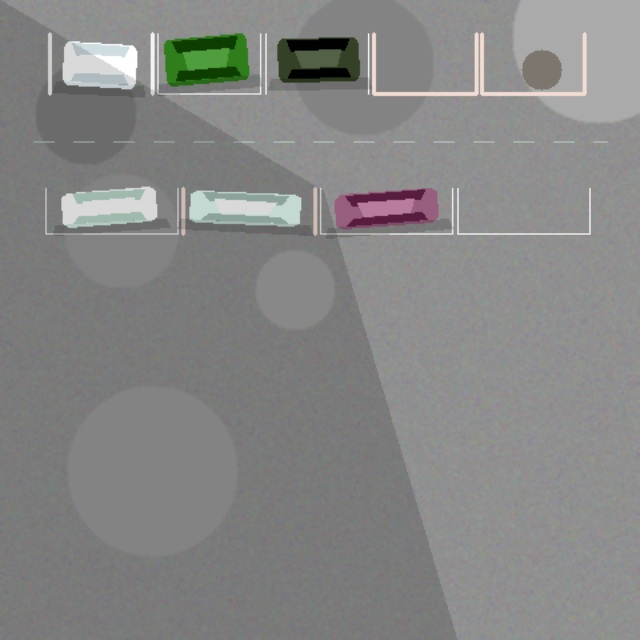space-empty: (373, 33, 476, 93), (481, 33, 584, 93), (457, 188, 589, 233)
space-occupied: (49, 33, 152, 93), (157, 33, 260, 93), (265, 33, 368, 93), (45, 188, 177, 233), (183, 188, 315, 233), (320, 188, 452, 233)
